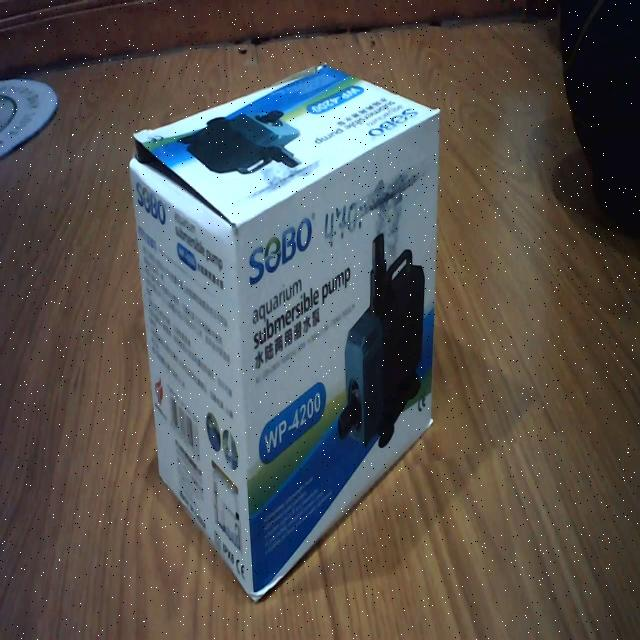SOBO_WP_4200: (123, 46, 451, 614)
